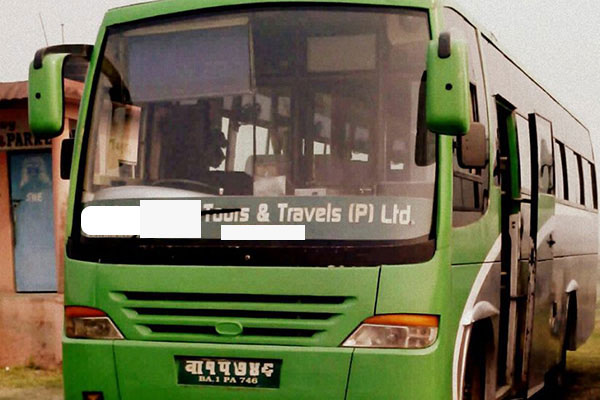number plate: (174, 354, 285, 393)
